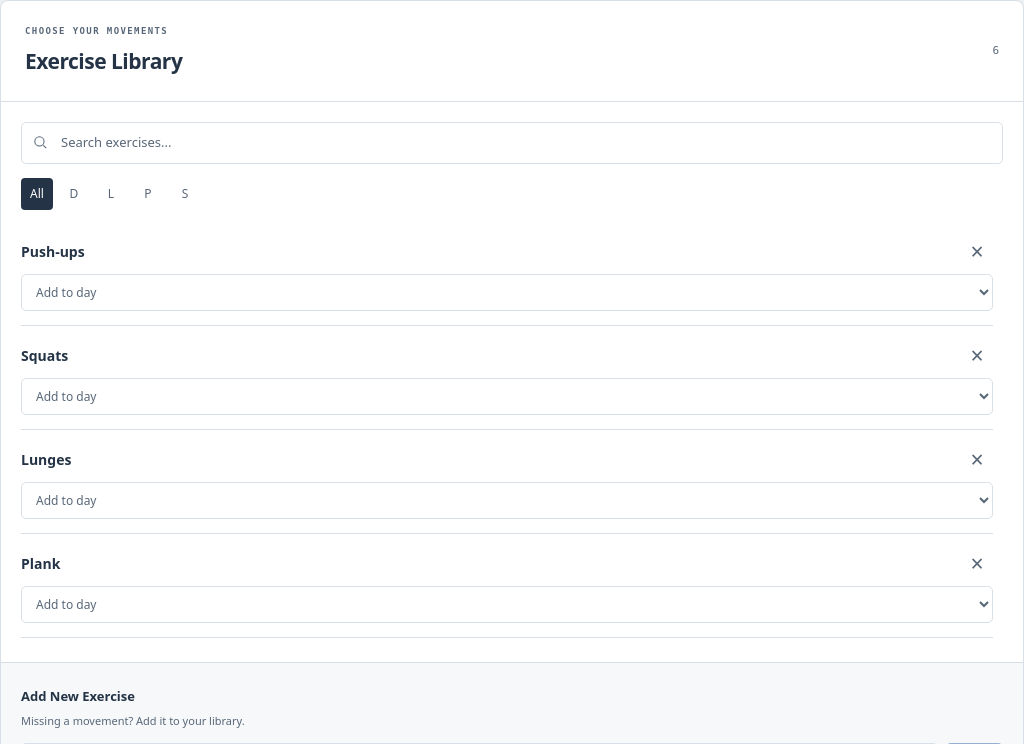
it: Exercise List Component › Search Filters Exercises
The image size is (1024, 744).
Type "Pla" into the search field with placeholder "Search exercises..." at (526, 143), box [49,123,1002,162]
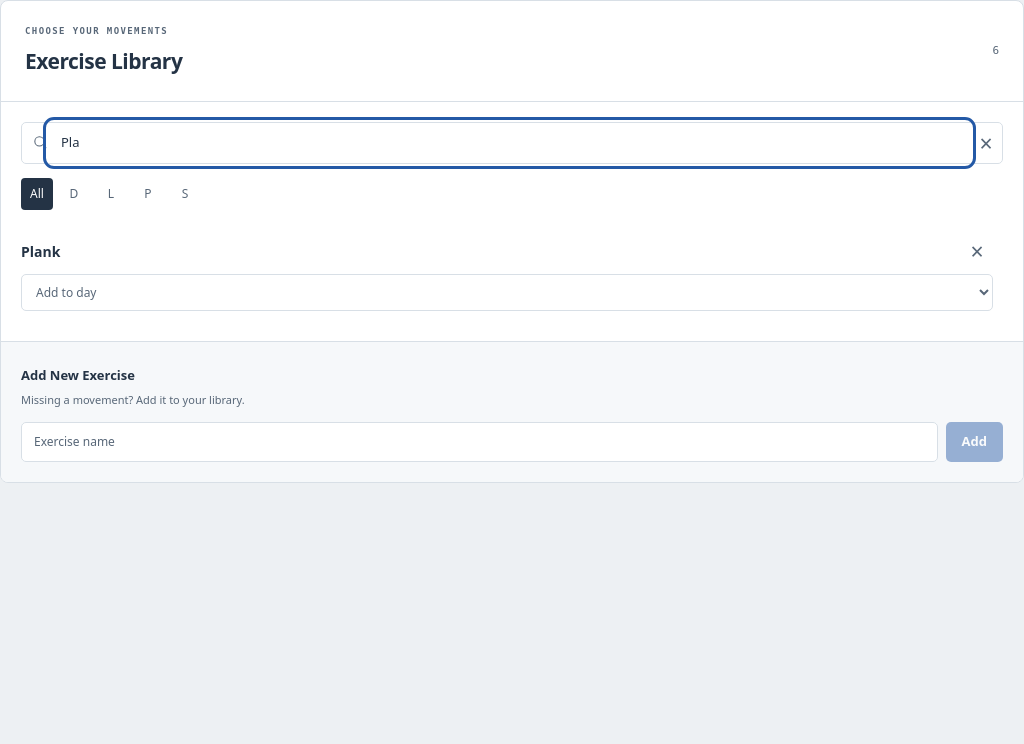
Expected: the text "Plank" is shown, [21,241,60,262]
Expected: the text "Squats" is gone
Expected: the text "Lunges" is gone
